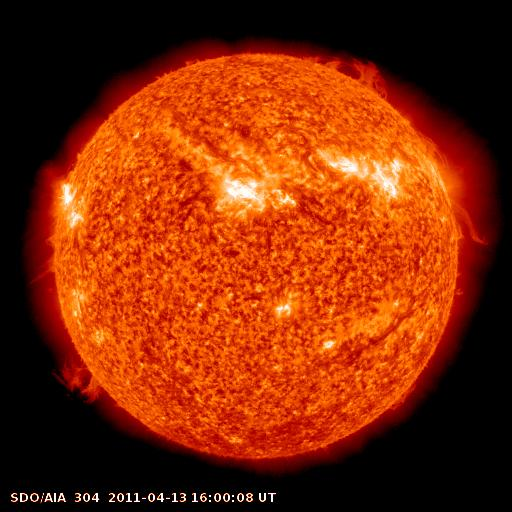prominence: (297, 43, 395, 107), (42, 345, 119, 409), (400, 112, 459, 172), (444, 196, 500, 253), (13, 247, 69, 293), (388, 377, 425, 416)
